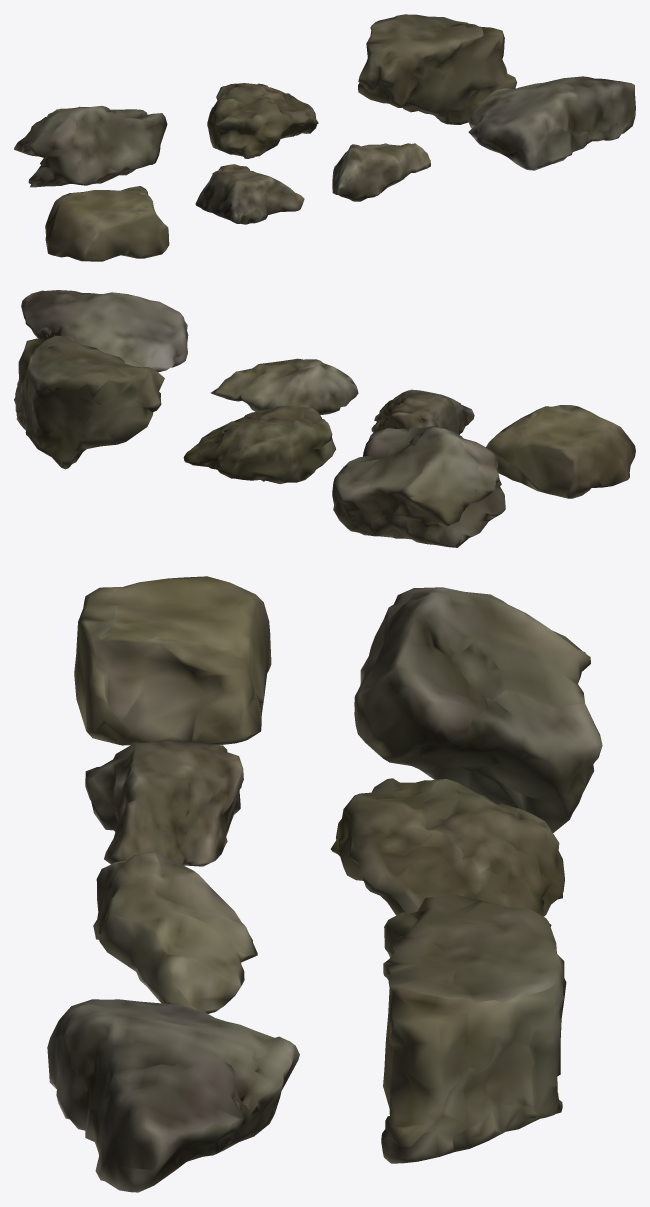
File: rock_moss_set_02_lod2.glb
3 renders of one model, top to bottom at view 1: azimuth 30°, elevation 25°; view 2: azimuth 150°, elevation 25°; view 3: azimuth 270°, elevation 25°, orthographic. The views are drawn at different scales.
Visible parts, largest first — view 1: rock_moss_set_02_rock08; view 2: rock_moss_set_02_rock08; view 3: rock_moss_set_02_rock08.
Boxes of the visible parts, x1,y1,x2,y2 form: rock_moss_set_02_rock08: [14, 14, 635, 261]; rock_moss_set_02_rock08: [14, 290, 635, 547]; rock_moss_set_02_rock08: [47, 576, 602, 1192].
Size of the model in its own units: 8.28 by 1.37 by 3.41.
Materials: 1 (1 with a texture image).
